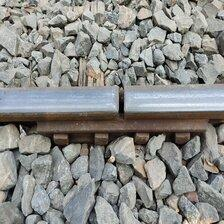railway-gap: (97, 76, 147, 130)
